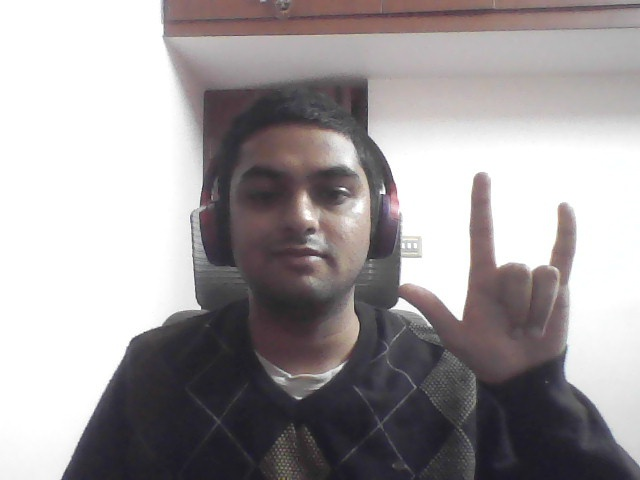I Love You: (389, 158, 605, 400)
